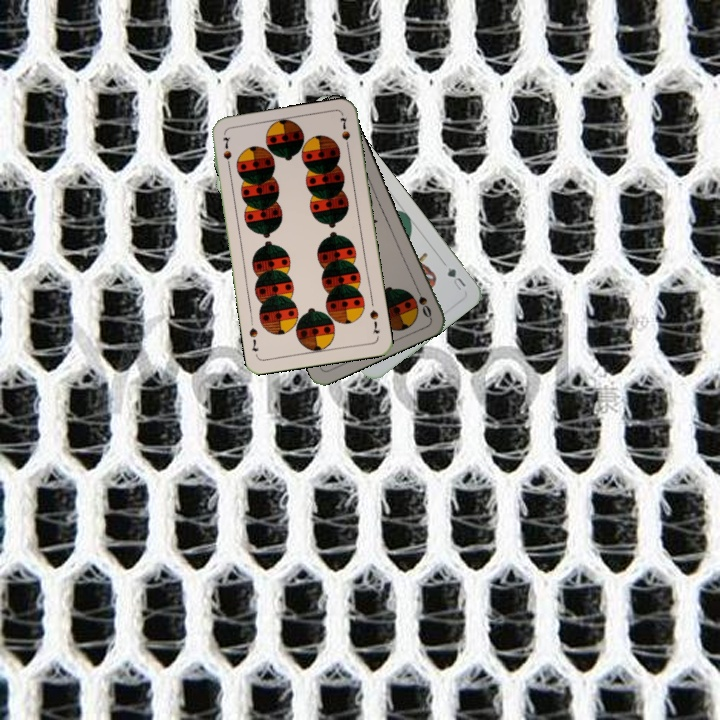GU: (443, 263, 469, 293)
S7: (219, 133, 234, 172), (366, 306, 382, 336)
SO: (411, 281, 434, 320)
